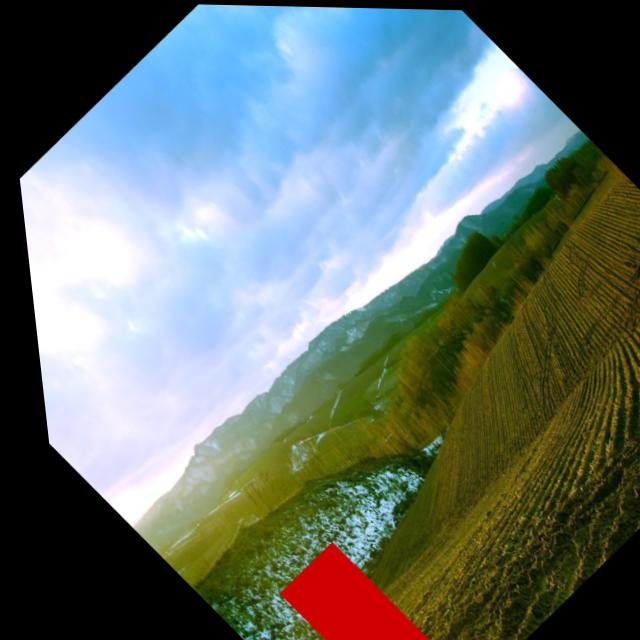RedSquare: (252, 531, 434, 640)
